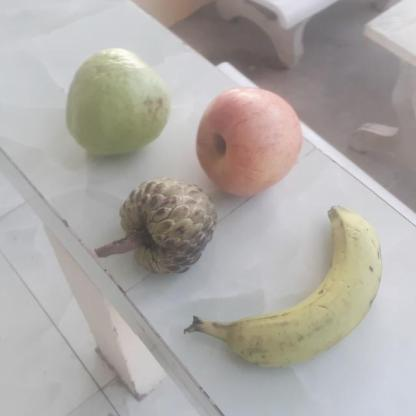annona: (109, 175, 215, 275)
apple: (191, 84, 304, 193)
banana: (186, 203, 380, 367)
guava: (64, 52, 168, 153)
